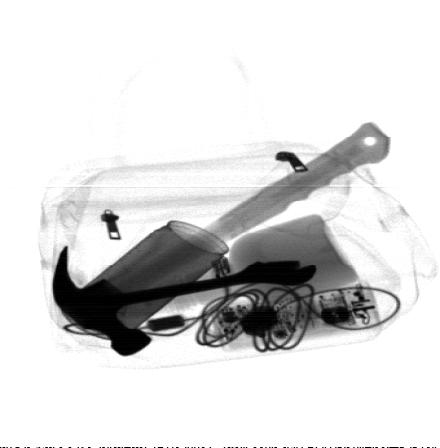Hammer: (52, 121, 391, 356)
Wrench: (90, 259, 315, 308)
